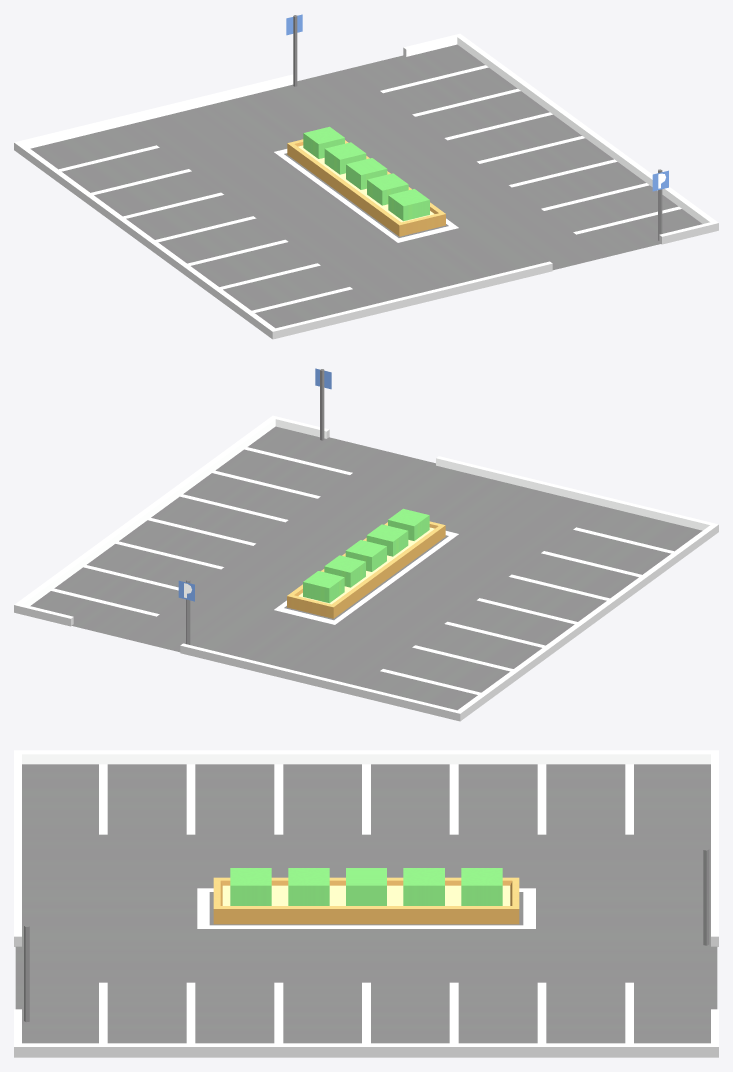
Rendered from parking_tile_2x2_2.glb.
3 renders of one model, top to bottom at view 1: azimuth 30°, elevation 25°; view 2: azimuth 150°, elevation 25°; view 3: azimuth 270°, elevation 25°, orthographic. The views are drawn at different scales.
Visible parts, largest first — view 1: parking_tile_2x2_2(Clone); view 2: parking_tile_2x2_2(Clone); view 3: parking_tile_2x2_2(Clone).
Part boxes in pixels (box(x1,y1,x2,y2)): parking_tile_2x2_2(Clone): box(14, 14, 718, 339); parking_tile_2x2_2(Clone): box(14, 368, 718, 721); parking_tile_2x2_2(Clone): box(14, 750, 718, 1057).
Size of the model in its own units: 16 by 2.47 by 16.07.
Materials: 1 (1 with a texture image).
